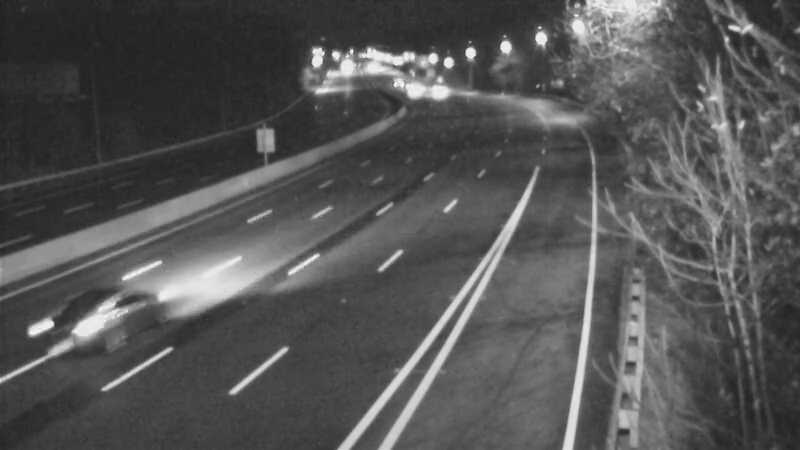vehicle: (39, 272, 149, 382), (371, 60, 421, 110), (391, 68, 441, 118), (407, 68, 457, 118)
